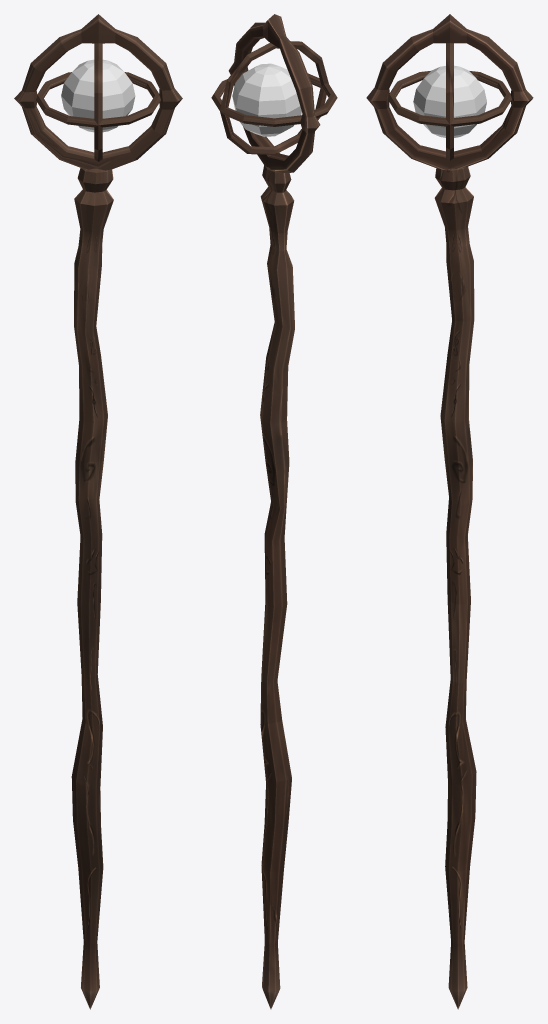
Rendered from staff_mage_03.fbx.
The picture shows the model from 3 angles, left to right: view 1: azimuth 90°, elevation 25°; view 2: azimuth 210°, elevation 25°; view 3: azimuth 270°, elevation 25°; orthographic projection.
Parts seen in each view (by area): view 1: Staff_03, Pearl3; view 2: Staff_03, Pearl3; view 3: Staff_03, Pearl3.
Boxes of the visible parts, box(x1,y1,x2,y2) form: Staff_03: box(14, 14, 182, 1009); Pearl3: box(61, 59, 135, 132); Staff_03: box(211, 14, 337, 1009); Pearl3: box(232, 63, 301, 136); Staff_03: box(366, 14, 533, 1009); Pearl3: box(413, 65, 486, 137).
Size of the model in its own units: 0.1774 by 1.54 by 0.2351.
